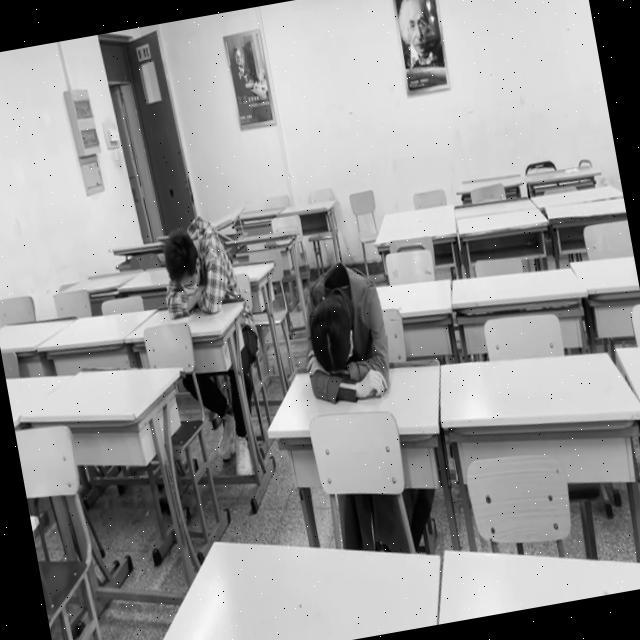sleep: (290, 259, 394, 408), (151, 209, 240, 320)
